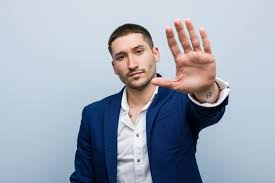white_male: (101, 37, 157, 85)
